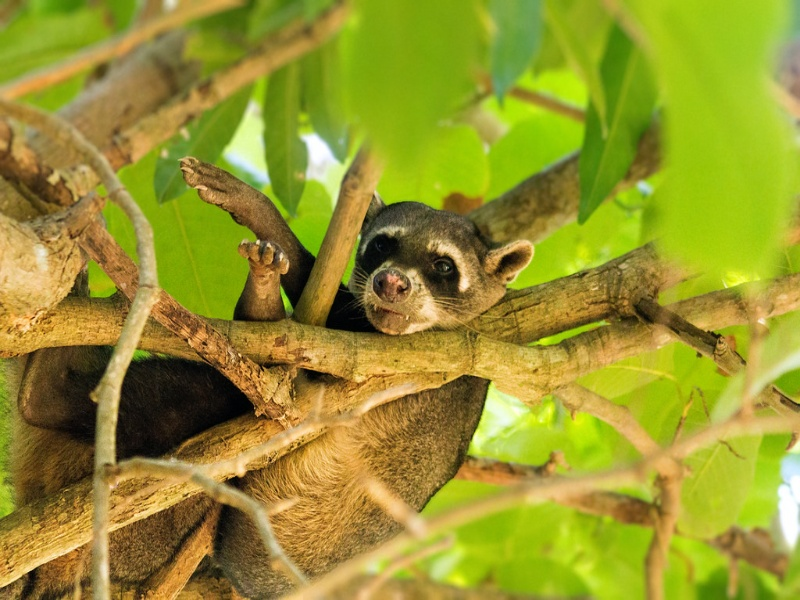raccoon: (22, 190, 541, 590)
